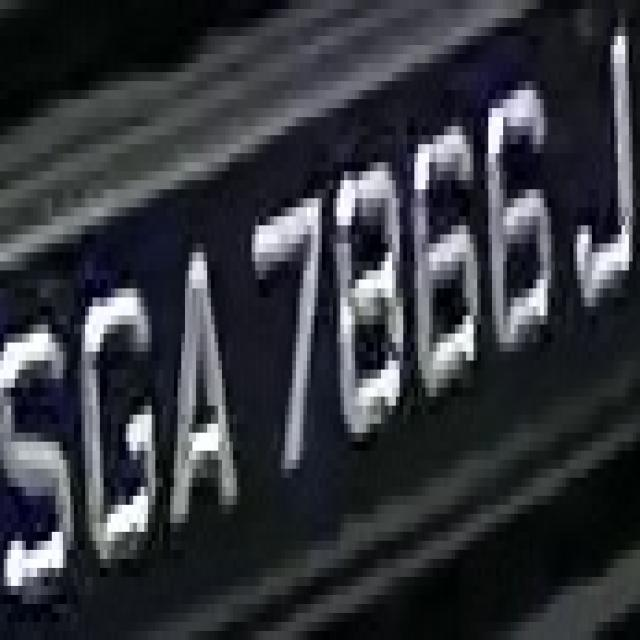6: (473, 63, 555, 370), (404, 108, 488, 397)
7: (244, 162, 329, 505)
8: (318, 144, 411, 460)
A: (159, 234, 248, 559)
G: (78, 279, 159, 577)
J: (562, 54, 636, 343)
S: (8, 288, 82, 595)
